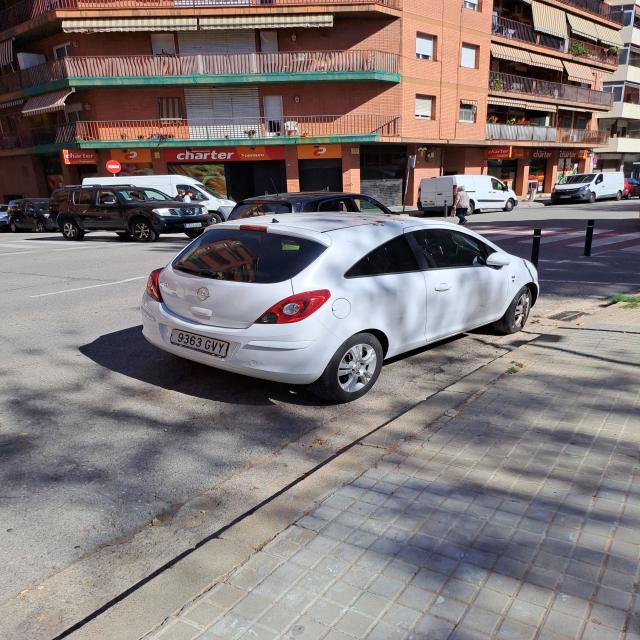license_plate-34Td: (170, 329, 234, 359)
